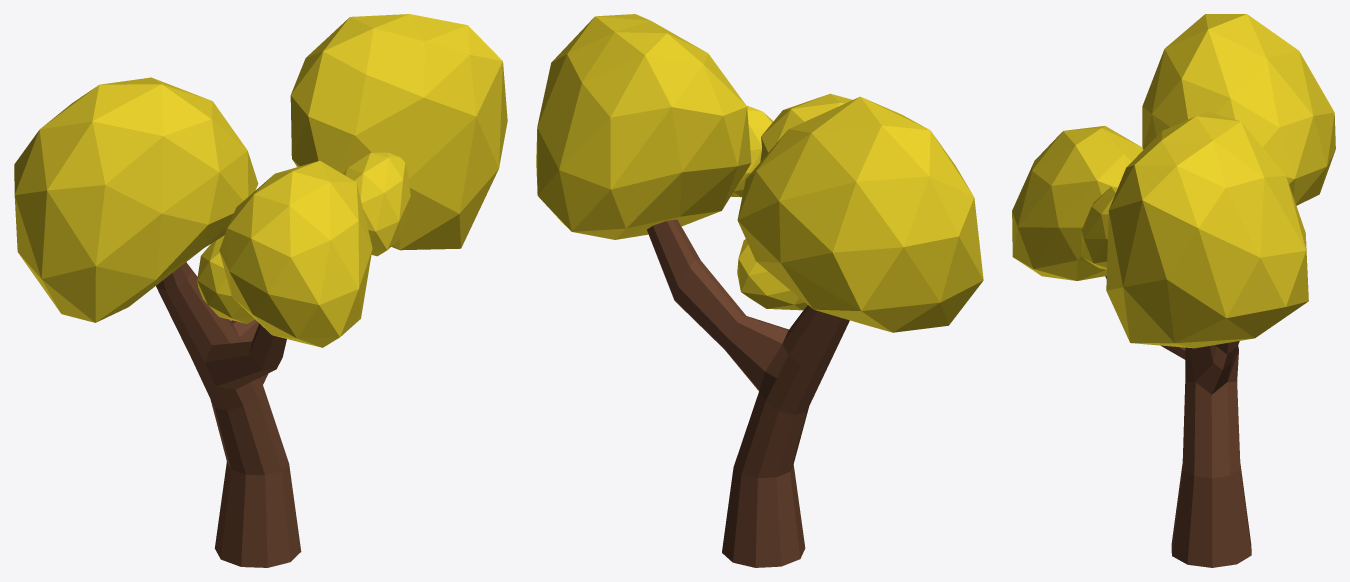
Rendered from Natures2t2-yellow.fbx.
3 views of the same model, side by side, from view 1: azimuth 30°, elevation 25°; view 2: azimuth 150°, elevation 25°; view 3: azimuth 270°, elevation 25° (orthographic). The views are drawn at different scales.
Parts seen in each view (by area): view 1: t2-yellow; view 2: t2-yellow; view 3: t2-yellow.
Part boxes in pixels (x1,y1,x2,y2): t2-yellow: [14, 14, 507, 567]; t2-yellow: [536, 14, 983, 567]; t2-yellow: [1012, 14, 1335, 567].
Size of the model in its own units: 673 by 718 by 435.
